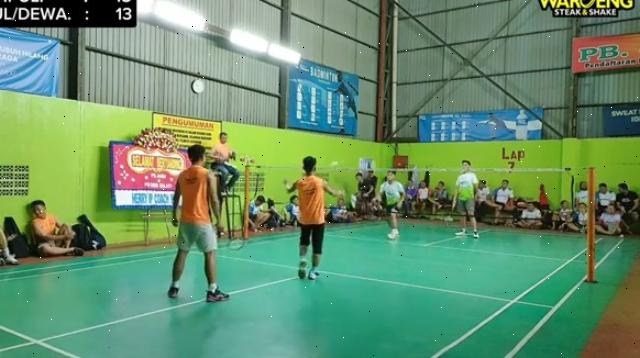Shuttlecock: (328, 158, 344, 170)
